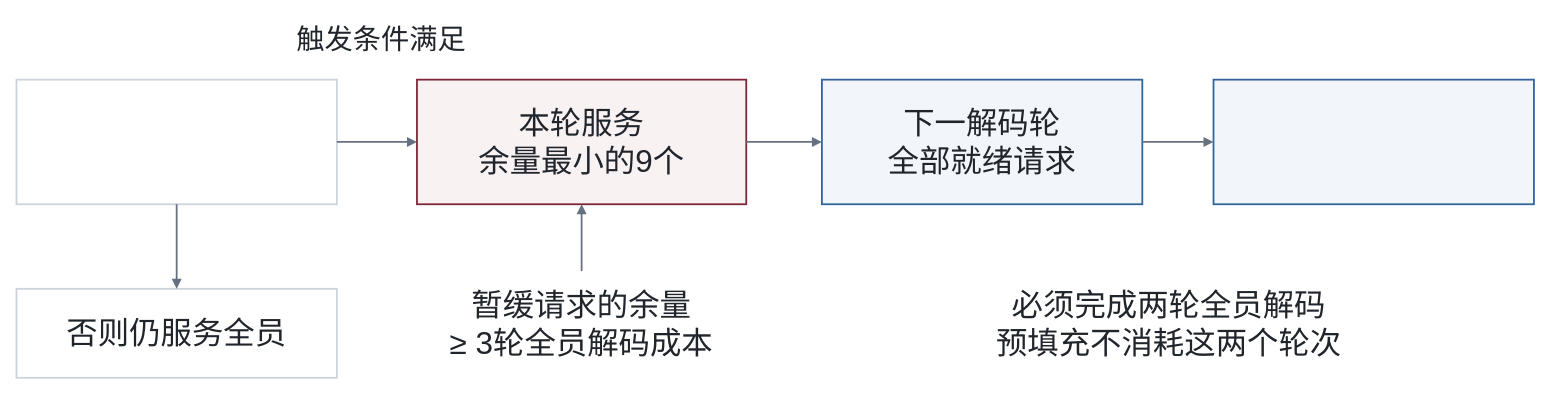
Some shapes in this 1549 by 394 pixel diagram are drawn without their labels. Here are the shapes that lost their labels. From the top down, the box of each, then its label:
(15, 78, 337, 205): 检查时限余量 与就绪请求数
(1212, 78, 1534, 205): 再下一解码轮 全部就绪请求
